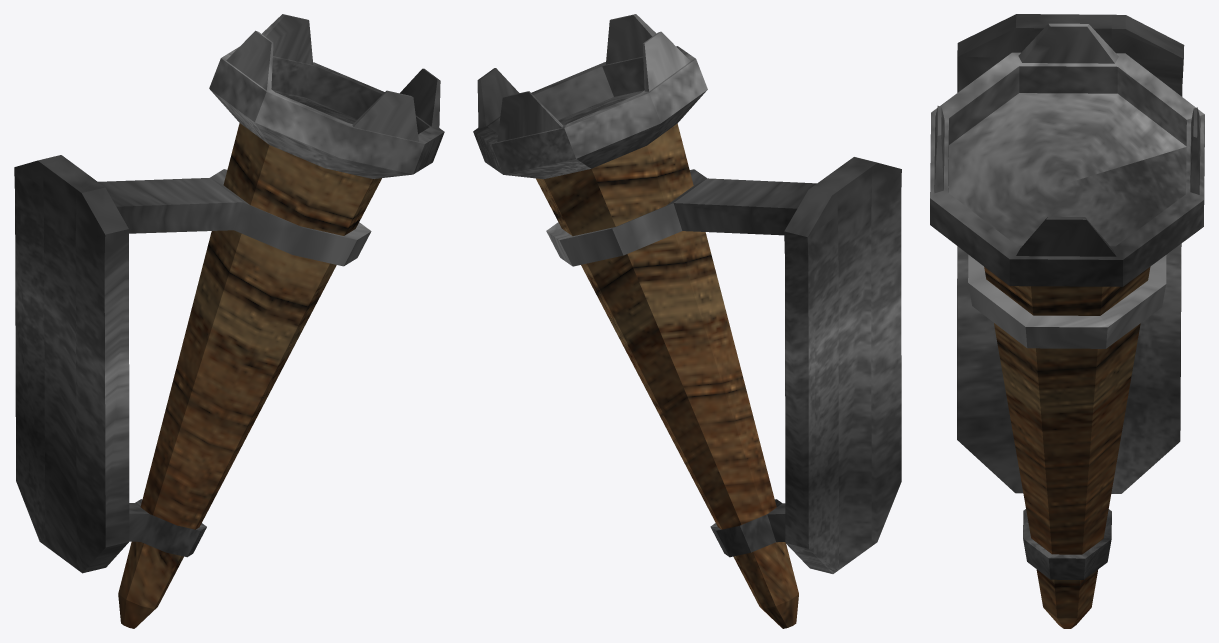
The model's file is torchsconce.fbx.
The picture shows the model from 3 angles, left to right: view 1: azimuth 30°, elevation 25°; view 2: azimuth 150°, elevation 25°; view 3: azimuth 270°, elevation 25°; orthographic projection. The views are drawn at different scales.
Visible parts, largest first — view 1: Torch w/ Sconce; view 2: Torch w/ Sconce; view 3: Torch w/ Sconce.
Part boxes in pixels (x1=…): Torch w/ Sconce: x1=14, y1=14, x2=444, y2=628; Torch w/ Sconce: x1=473, y1=14, x2=901, y2=628; Torch w/ Sconce: x1=930, y1=14, x2=1204, y2=628.
Size of the model in its own units: 355 by 510 by 186.
